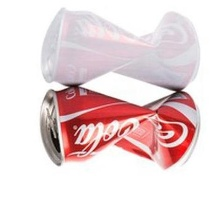can: (34, 85, 206, 175), (33, 6, 203, 91)
